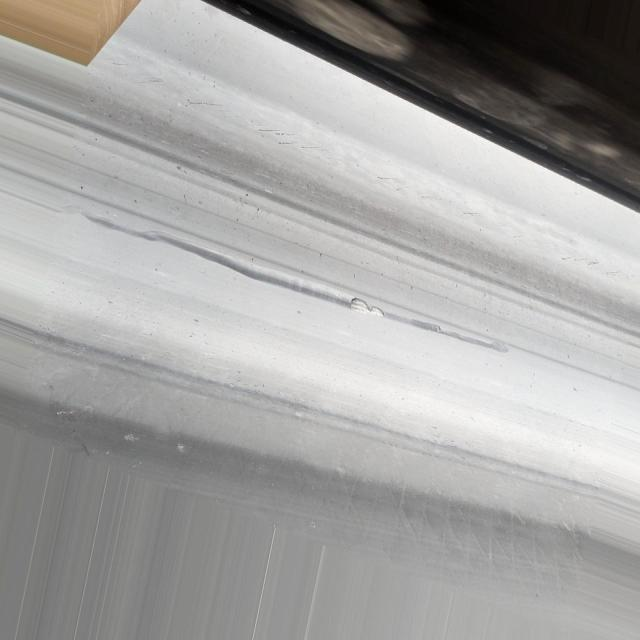Tear: (343, 290, 391, 325)
impact damage: (88, 199, 517, 363)
